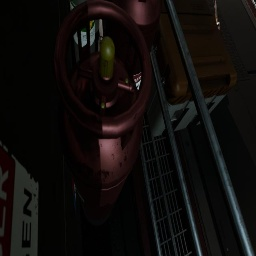0: (69, 0, 95, 64), (95, 20, 100, 33)
NitrogenTank ,: (52, 0, 152, 226), (106, 0, 162, 92)
